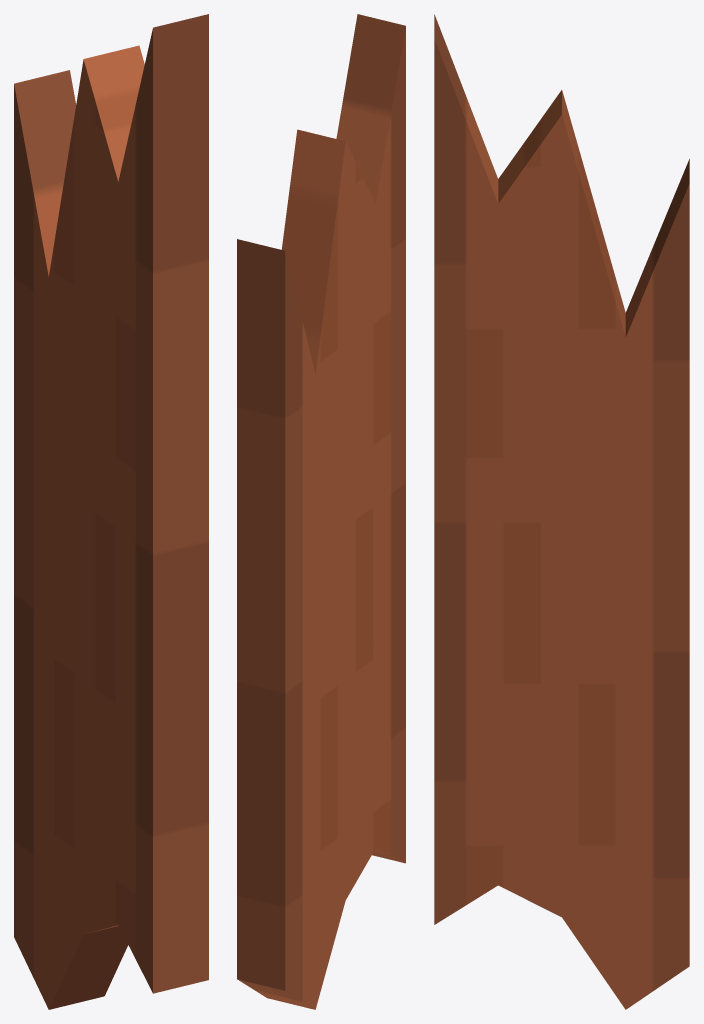
The model's file is Plank.fbx.
3 renders of one model, left to right at view 1: azimuth 30°, elevation 25°; view 2: azimuth 150°, elevation 25°; view 3: azimuth 270°, elevation 25°, orthographic. The views are drawn at different scales.
Parts seen in each view (by area): view 1: Cube; view 2: Cube; view 3: Cube.
Part boxes in pixels (x1,y1,x2,y2): Cube: (14,14,208,1009); Cube: (237,14,405,1009); Cube: (434,14,689,1009).
Size of the model in its own units: 23.2 by 420 by 100.
